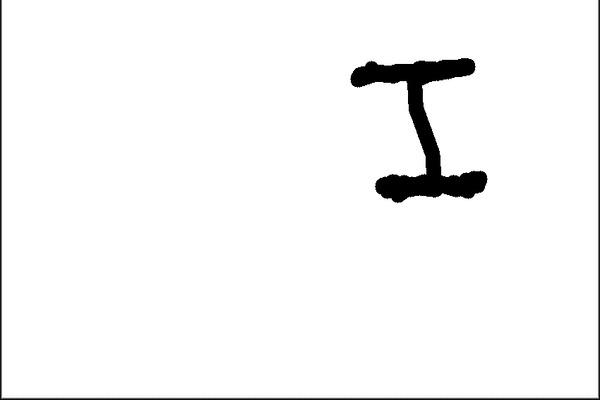i: (330, 46, 501, 214)
